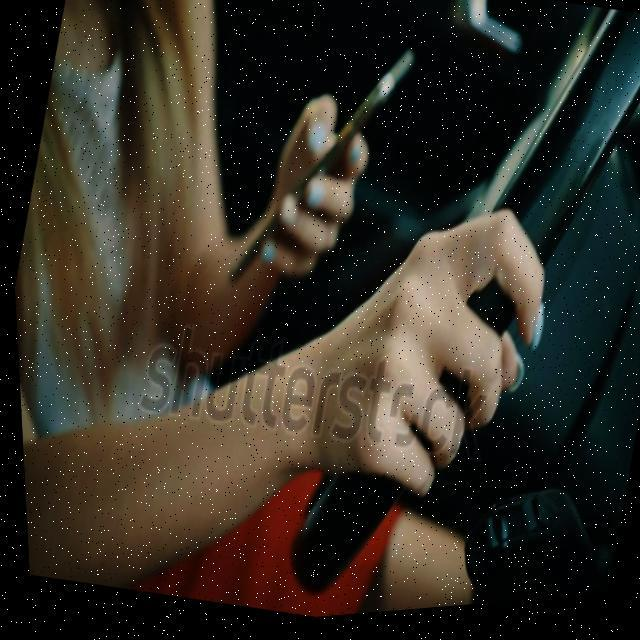PhoneCall: (208, 22, 424, 316)
